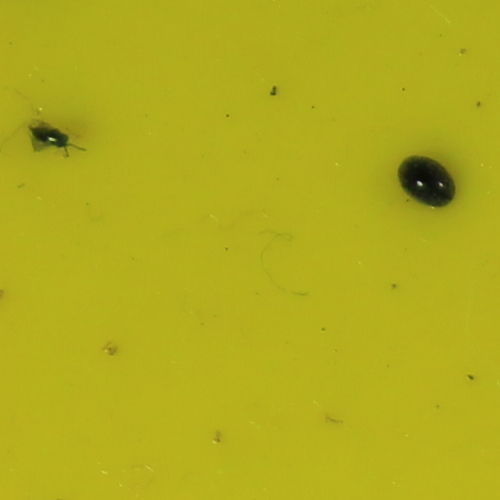Psyllaephagus: (27, 121, 70, 149)
